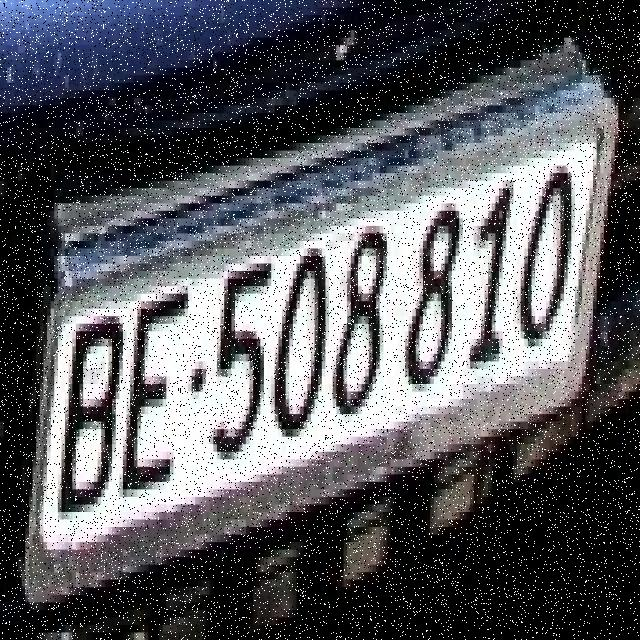licenseplate: (19, 22, 624, 598)
